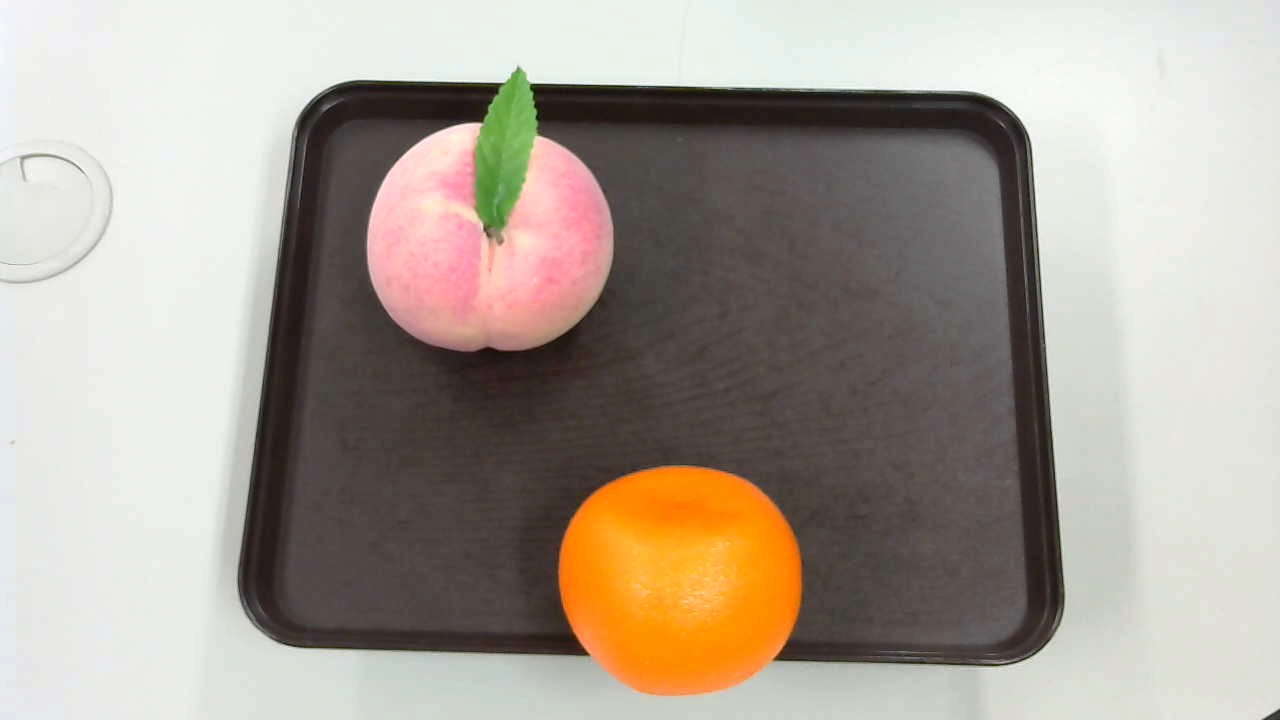orange: (556, 455, 807, 693)
peach: (356, 62, 614, 356)
